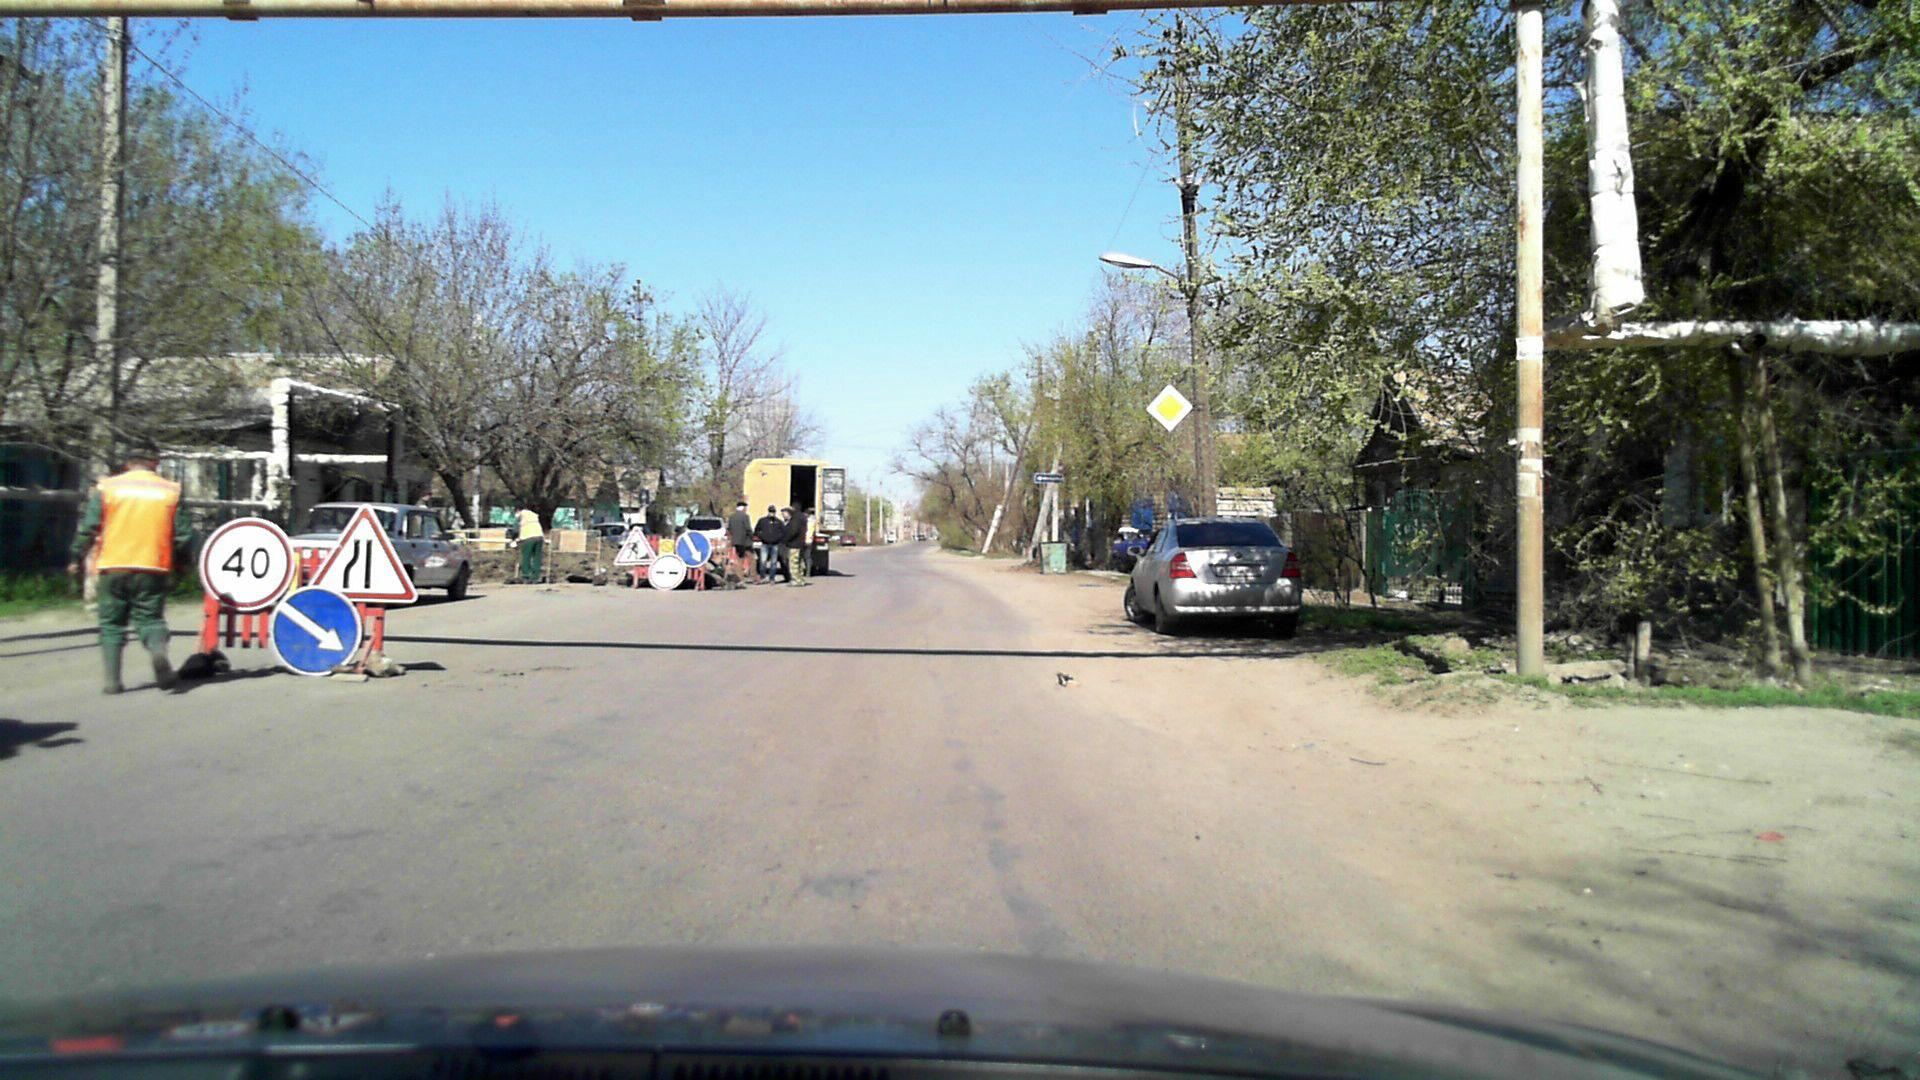1_20_3: (303, 498, 414, 601)
1_25: (613, 522, 655, 567)
2_1: (1147, 381, 1193, 433)
3_20: (651, 553, 686, 592)
3_24: (200, 513, 291, 609)
4_2_1: (269, 583, 360, 671), (676, 527, 709, 564)
5_7_2: (1033, 471, 1069, 485)
